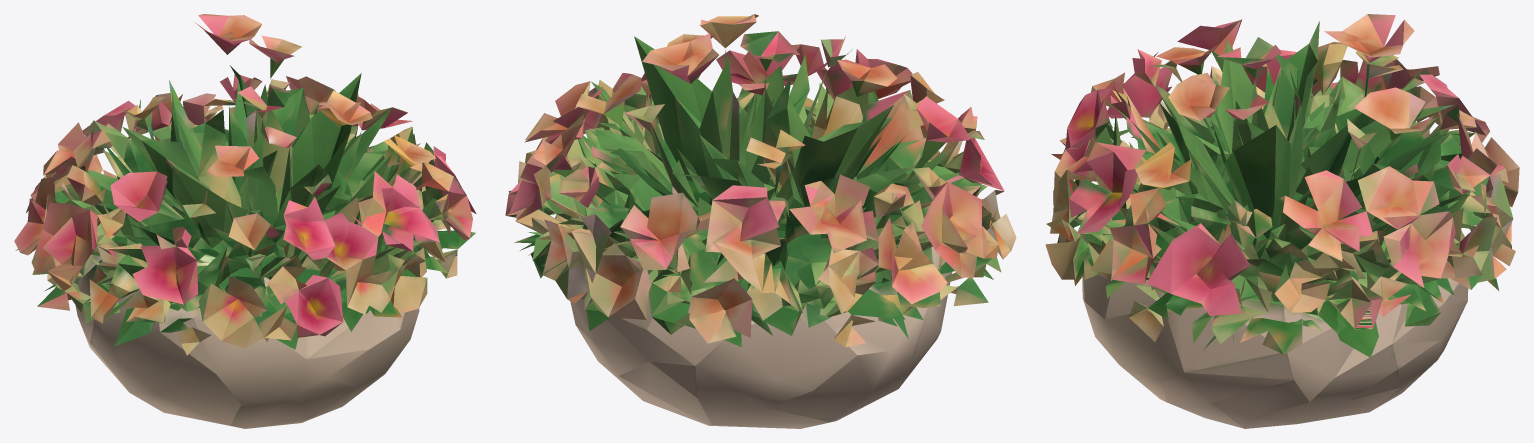
File: flower-planter.glb
3 views of the same model, side by side, from view 1: azimuth 30°, elevation 25°; view 2: azimuth 150°, elevation 25°; view 3: azimuth 270°, elevation 25° (orthographic). The views are drawn at different scales.
Size of the model in its own units: 1.9 by 1.45 by 1.67.
1 material, 1 textured.
